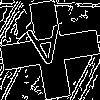A: (25, 25, 67, 76)
